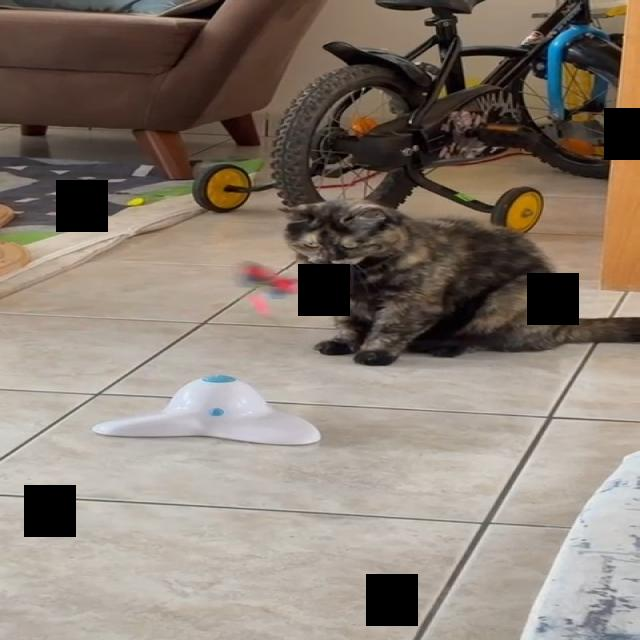authorized: (277, 198, 639, 366)
